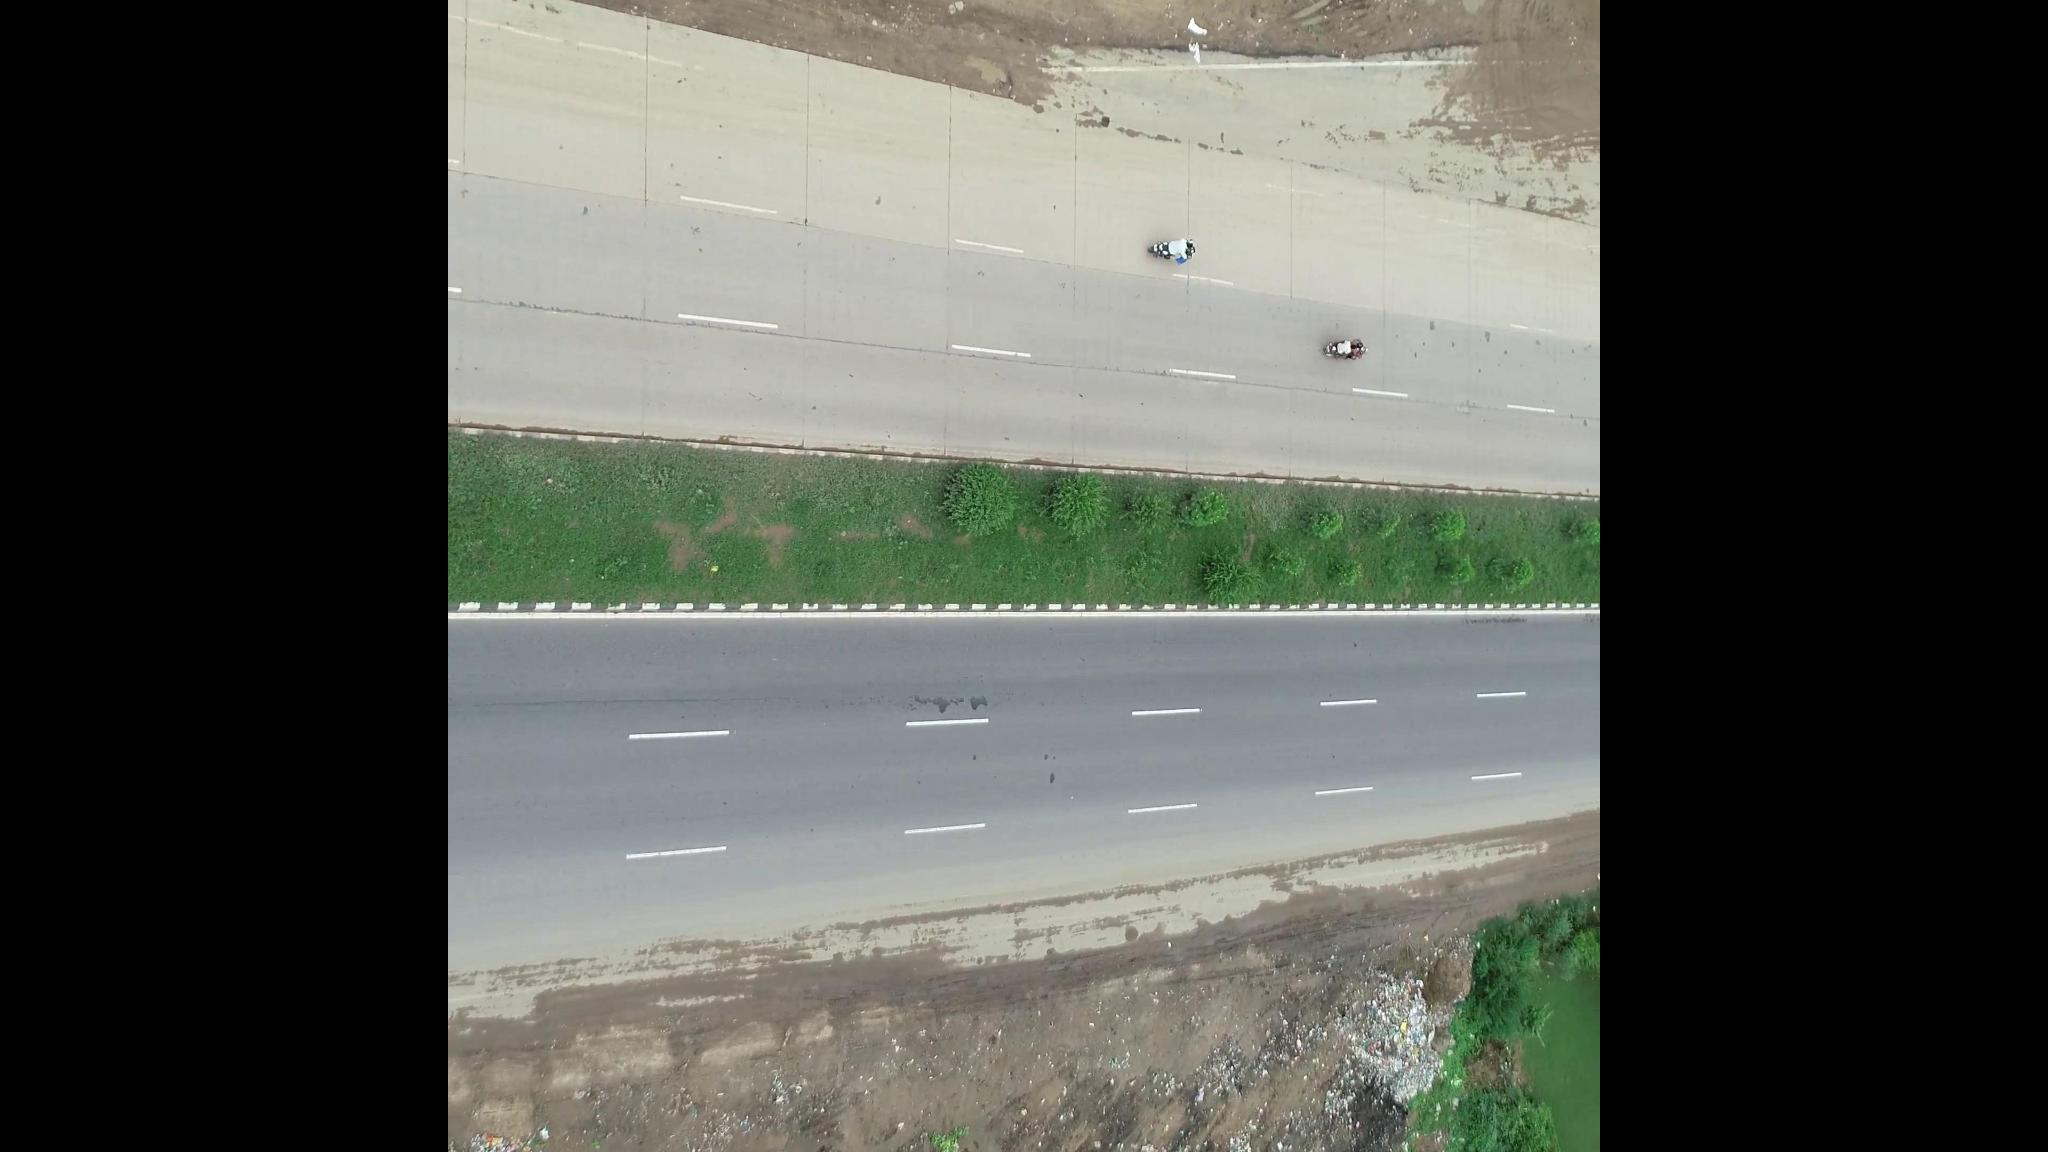Road_side_garbage: (1076, 987, 1461, 1152)
